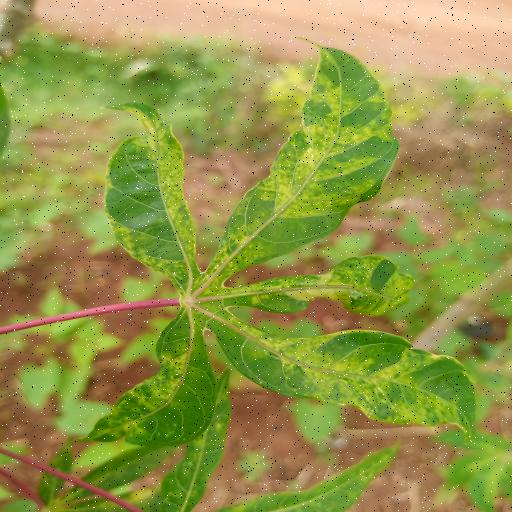Cassava_Mosaic: (90, 38, 480, 456)
